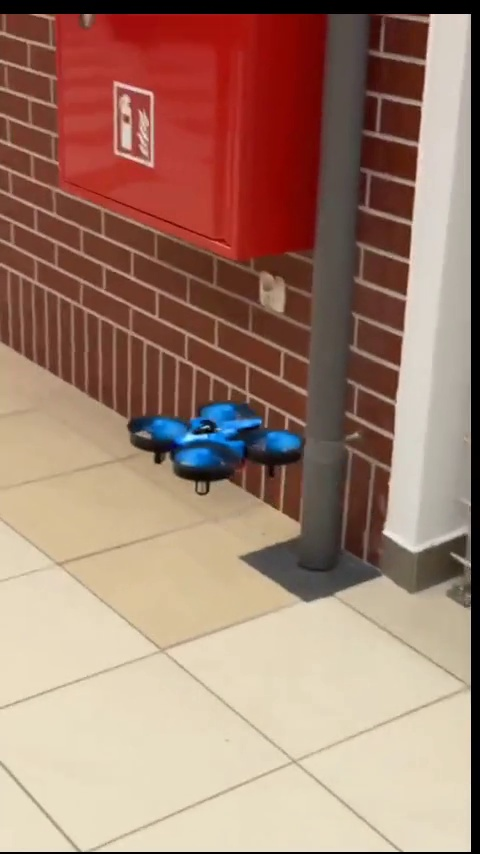drone: (124, 397, 311, 500)
